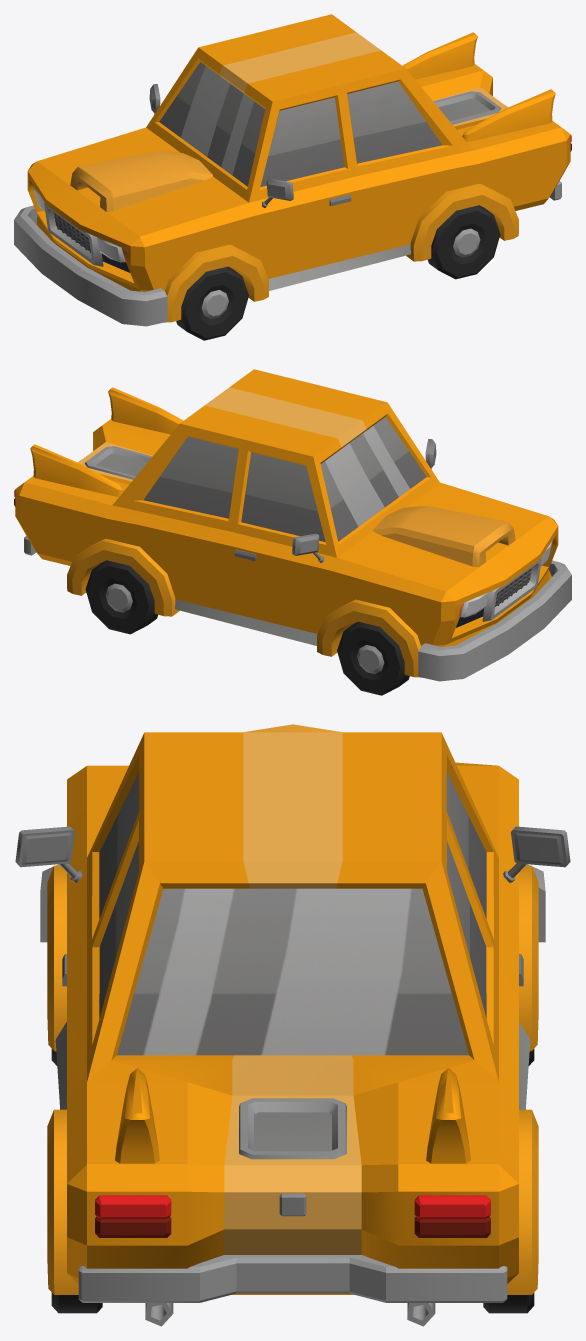
File: Car_10_A.fbx
3 views of the same model, one above another, from view 1: azimuth 30°, elevation 25°; view 2: azimuth 150°, elevation 25°; view 3: azimuth 270°, elevation 25° (orthographic). The views are drawn at different scales.
Parts seen in each view (by area): view 1: Car_10_A, RL, FL; view 2: Car_10_A, RR, FR; view 3: Car_10_A, RL, RR.
Boxes of the visible parts, bbox=[...] form: Car_10_A: bbox=[14, 14, 571, 326]; RL: bbox=[428, 205, 500, 279]; FL: bbox=[176, 266, 248, 340]; Car_10_A: bbox=[14, 369, 571, 681]; RR: bbox=[85, 560, 157, 634]; FR: bbox=[337, 621, 409, 695]; Car_10_A: bbox=[15, 724, 570, 1326]; RL: bbox=[51, 1293, 102, 1313]; RR: bbox=[483, 1293, 534, 1313].
Bounding box in the file's own units: 3.58 × 1.49 × 1.85.
